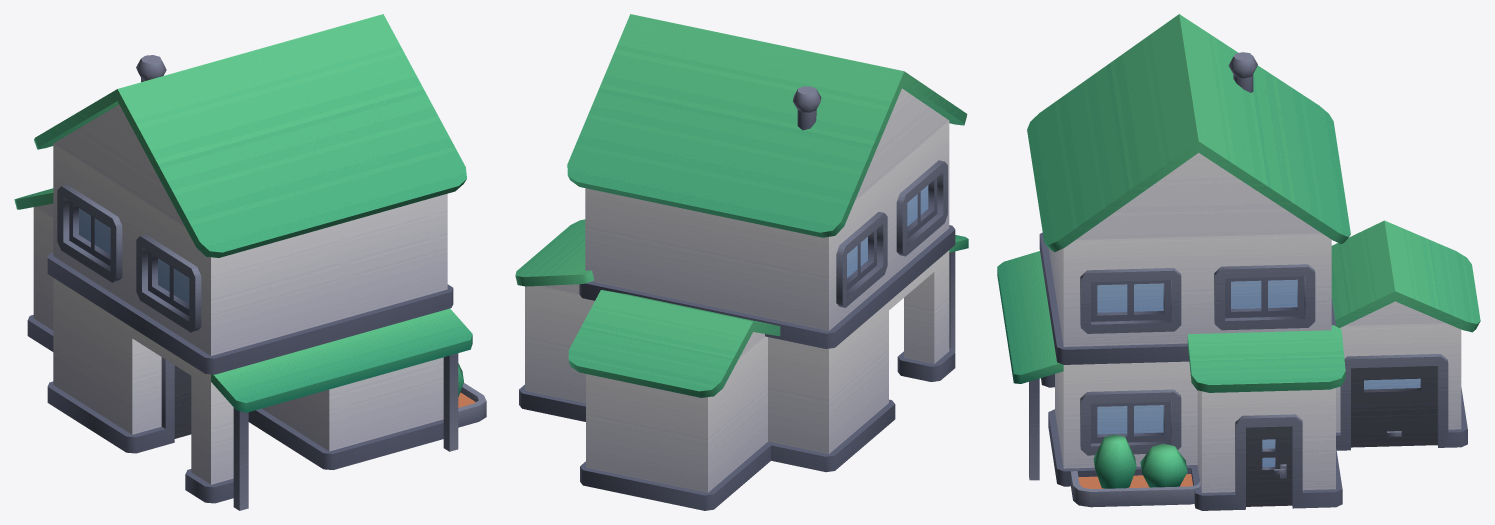
File: building-type-s_lev1.glb
The picture shows the model from 3 angles, left to right: view 1: azimuth 30°, elevation 25°; view 2: azimuth 150°, elevation 25°; view 3: azimuth 270°, elevation 25°; orthographic projection. The views are drawn at different scales.
Visible parts, largest first — view 1: building-type-s_lev1; view 2: building-type-s_lev1; view 3: building-type-s_lev1.
Boxes of the visible parts, <box> form: building-type-s_lev1: <box>14,14,486,510</box>; building-type-s_lev1: <box>515,14,968,510</box>; building-type-s_lev1: <box>997,14,1480,510</box>.
Size of the model in its own units: 4.98 by 5.11 by 6.47.
Materials: 1 (1 with a texture image).
